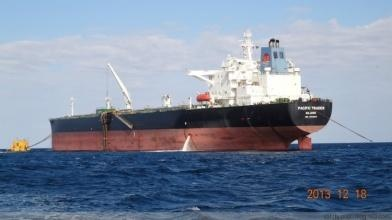Cargoship: (41, 30, 334, 150)
